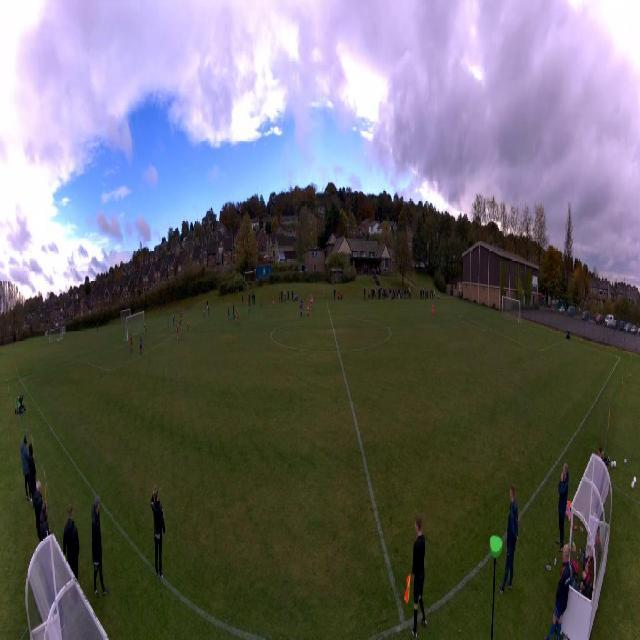ball: (182, 323, 183, 325)
player: (235, 308, 240, 326), (186, 316, 191, 333), (299, 299, 303, 318), (227, 305, 231, 321), (140, 336, 143, 357), (176, 320, 179, 340), (307, 300, 310, 319), (130, 334, 133, 353), (431, 302, 434, 320), (310, 293, 313, 311), (233, 302, 236, 319), (179, 311, 182, 326), (248, 299, 251, 314), (272, 295, 275, 310), (203, 305, 205, 319), (260, 295, 262, 309), (173, 312, 175, 326), (167, 316, 169, 328), (208, 306, 210, 318), (182, 307, 184, 318), (144, 322, 146, 333)
